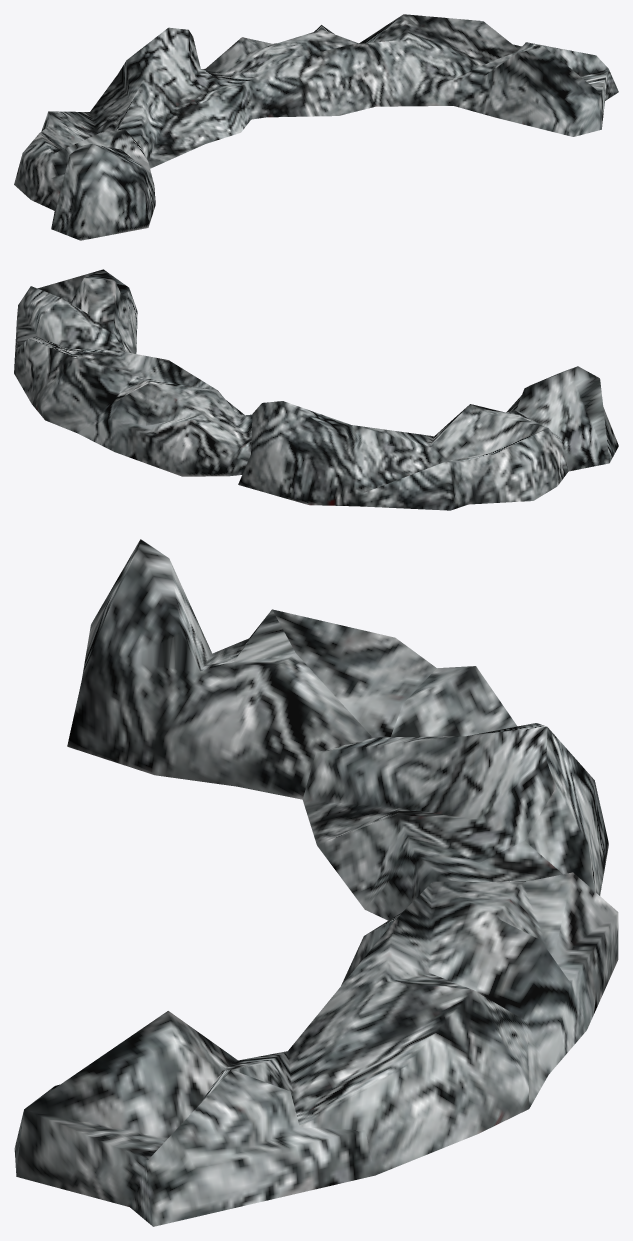
The model's file is STR_WallBoulderC.FBX.
The picture shows the model from 3 angles, top to bottom: view 1: azimuth 30°, elevation 25°; view 2: azimuth 150°, elevation 25°; view 3: azimuth 270°, elevation 25°; orthographic projection. The views are drawn at different scales.
Parts seen in each view (by area): view 1: STR_WallBouldeC; view 2: STR_WallBouldeC; view 3: STR_WallBouldeC.
Part boxes in pixels (left/top/right/bottom): STR_WallBouldeC: left=14, top=14, right=618, bottom=240; STR_WallBouldeC: left=14, top=269, right=618, bottom=510; STR_WallBouldeC: left=14, top=539, right=618, bottom=1226.
Bounding box in the file's own units: 1549 × 210 × 715.
1 material, 1 textured.
